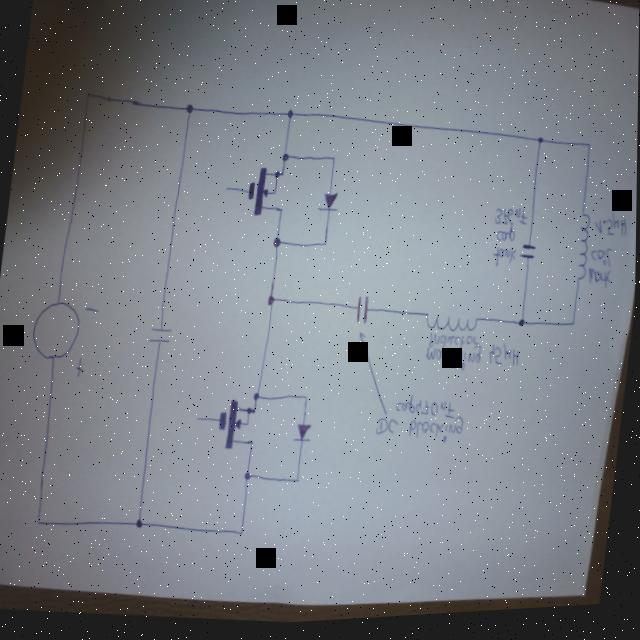capacitor: (351, 298, 371, 332), (146, 325, 173, 349), (517, 249, 536, 268)
diode: (315, 191, 341, 219), (291, 422, 313, 449)
inductor: (422, 313, 478, 342), (570, 218, 592, 291)
junction: (270, 237, 284, 253), (265, 295, 276, 310), (183, 103, 194, 117), (134, 518, 144, 532), (279, 154, 289, 167), (284, 111, 293, 125), (242, 473, 252, 485), (516, 323, 525, 335), (534, 142, 543, 153), (252, 394, 261, 405), (568, 325, 577, 335), (293, 478, 301, 489), (82, 91, 90, 102), (237, 531, 245, 541), (320, 242, 327, 253), (302, 396, 309, 406), (329, 158, 336, 168), (584, 148, 591, 157), (35, 519, 42, 528)
source: (25, 294, 85, 367)
terminal: (193, 416, 202, 425), (222, 187, 229, 194)
text: (422, 344, 482, 381), (393, 394, 458, 427), (407, 416, 466, 452), (426, 334, 480, 360), (591, 215, 629, 247), (486, 345, 521, 376), (492, 209, 528, 234), (585, 273, 611, 298), (490, 251, 516, 275), (588, 252, 614, 276), (374, 420, 400, 441), (493, 228, 515, 250)
transistor: (243, 166, 288, 224), (215, 398, 258, 456)
